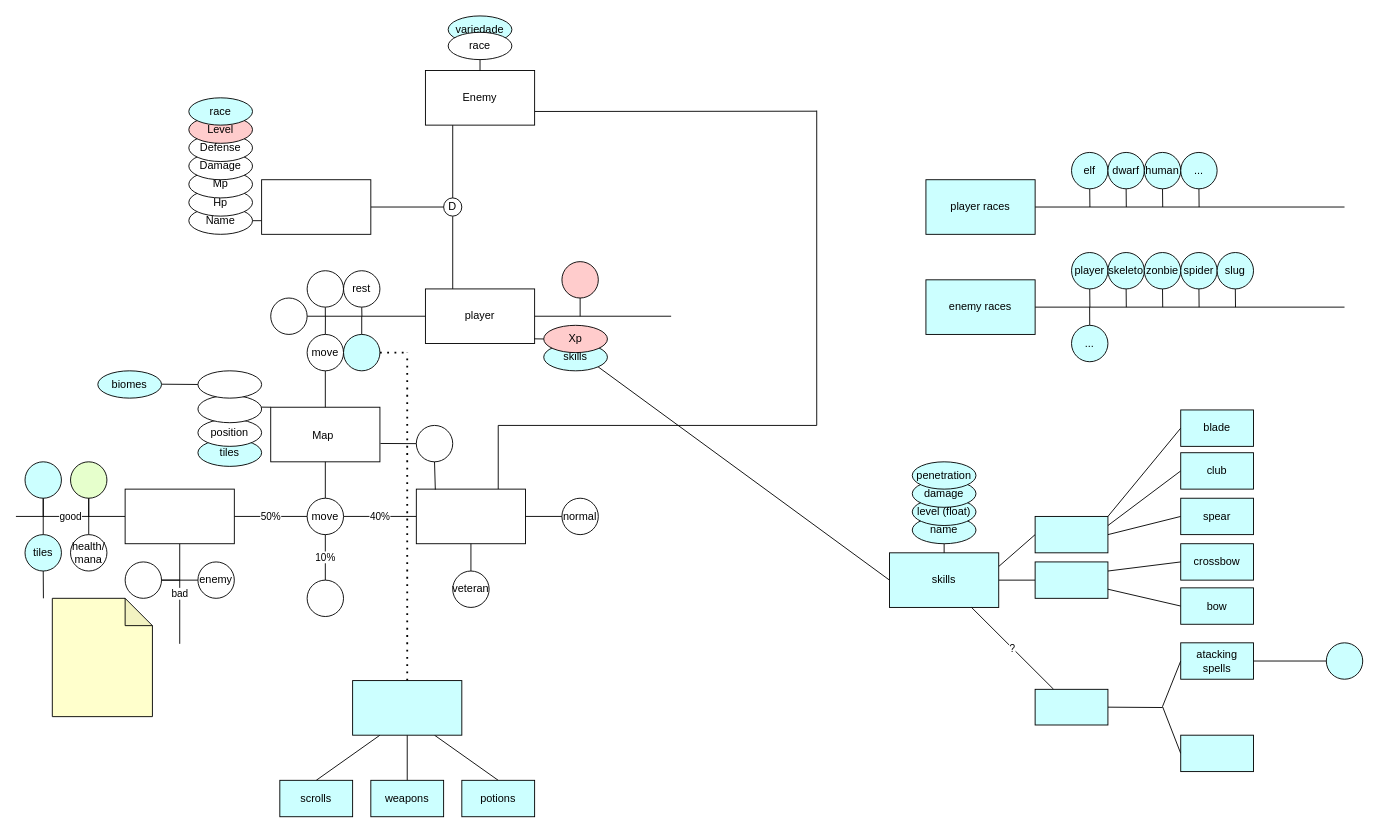
This 1379x833 diagram has some shape labels left out. The centre of each missing label's shape, as x and y in pixels:
"bag" belongs at pixel 361 352.
"boss" belongs at pixel 434 443.
"Caracter" belongs at pixel 316 206.
"combat" belongs at pixel 470 516.
"event" belongs at pixel 179 516.
"expand" belongs at pixel 1344 660.
"Floors" belongs at pixel 229 384.
"heal spell" belongs at pixel 1217 753.
"inventory" belongs at pixel 407 707.
"item" belongs at pixel 42 479.
"level up" belongs at pixel 579 279.
"magic" belongs at pixel 1071 706.
"melee" belongs at pixel 1071 534.
"nothing" belongs at pixel 325 598.
"ranged" belongs at pixel 1071 579.
"Save & Load" belongs at pixel 325 288.
"Size" belongs at pixel 229 408.
"stats up" belongs at pixel 88 479.
"Status" belongs at pixel 288 315.
"step on mushroom stranger from afar traps fountain (tile) walls ?" belongs at pixel 101 657.
"trap" belongs at pixel 143 579.
